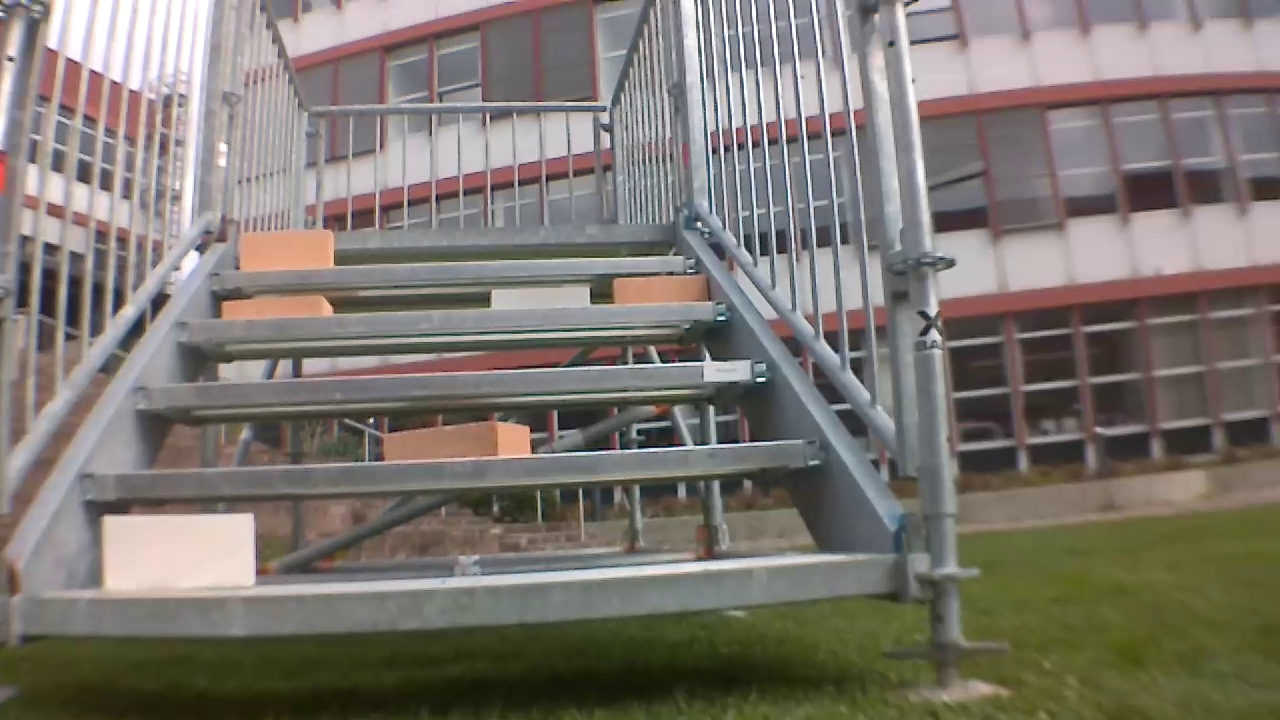brick: (103, 513, 255, 592), (383, 422, 530, 460), (240, 230, 334, 269), (615, 275, 708, 304), (223, 296, 332, 319), (489, 285, 590, 309)
edge: (23, 556, 896, 634), (80, 439, 826, 499), (133, 358, 772, 406), (178, 301, 729, 340), (210, 256, 702, 285), (231, 222, 674, 245)
stairs: (3, 2, 980, 706)
steps: (21, 218, 905, 641)
